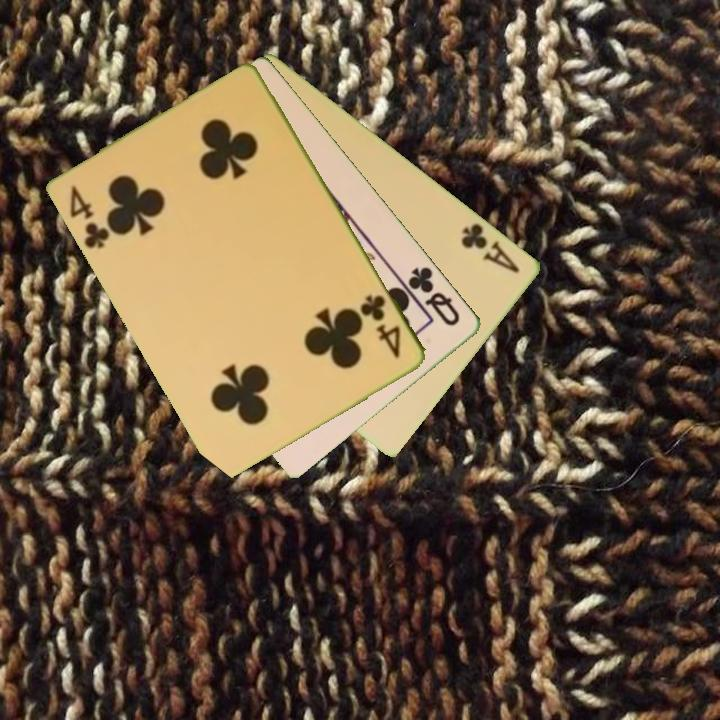4c: (357, 290, 404, 362), (66, 182, 114, 252)
Ac: (457, 219, 524, 277)
Qc: (404, 263, 464, 330)
